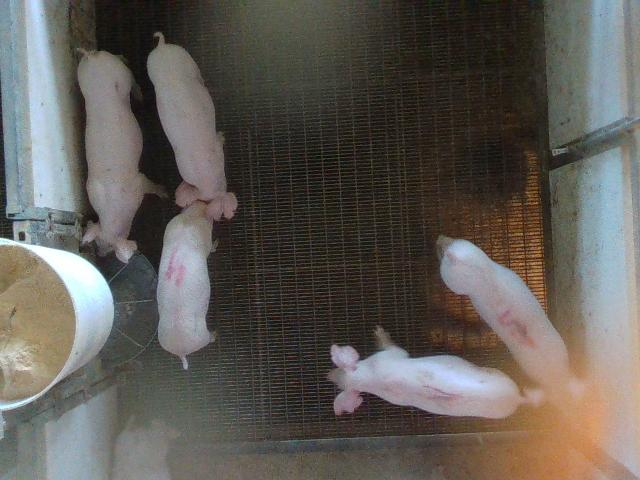pig-1: (329, 326, 525, 418)
pig-3: (438, 236, 584, 404)
pig-4: (158, 181, 222, 369)
